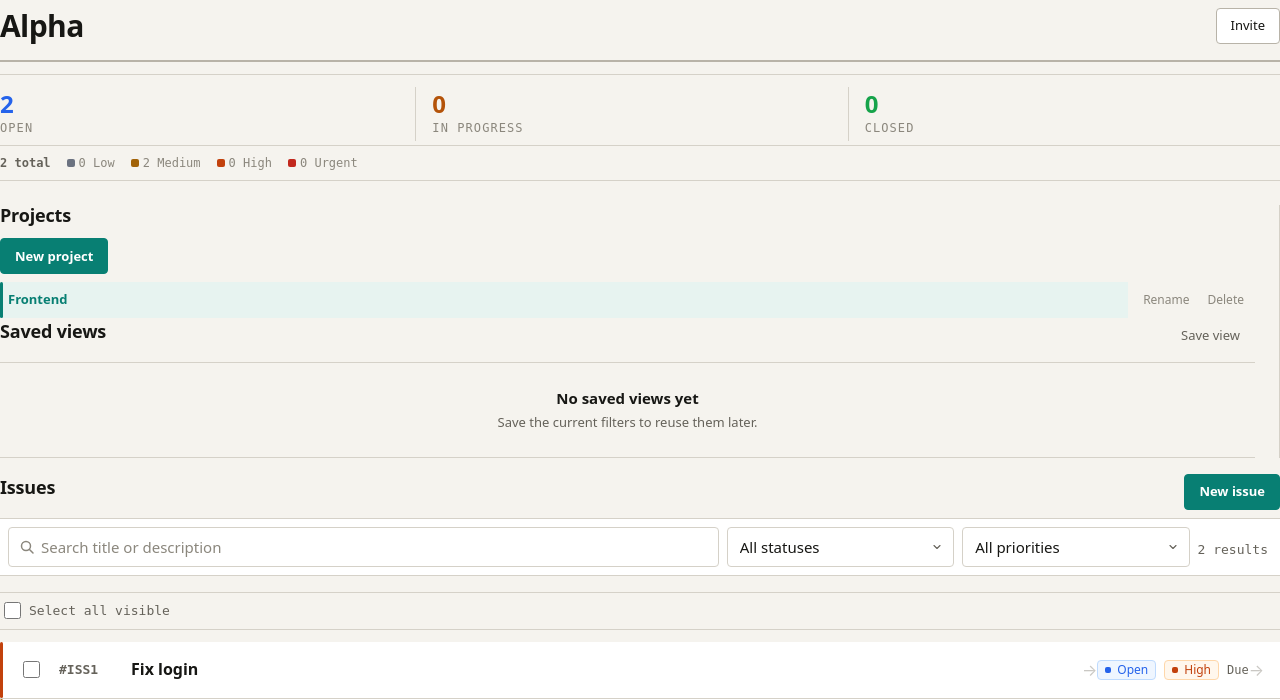
Test: WorkspacePage bulk actions › surfaces a bulk error in an alert and keeps the selection
This screenshot has width=1280, height=700.
Check: the text "Fix login" is shown, box [131,658,198,680]
Click the checkbox named "Select Fix login": (32, 670) [23,661,40,678]
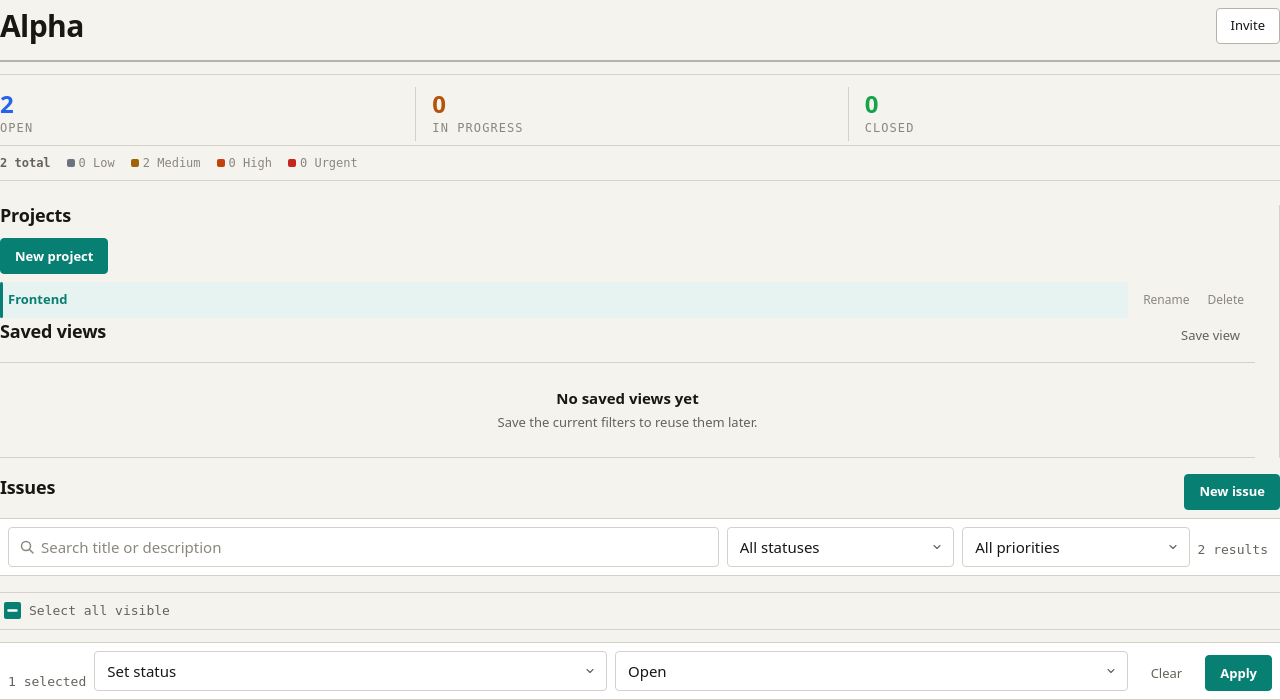
Click the button "Apply": (1239, 673) [1205,655,1272,691]
(page scrolled)
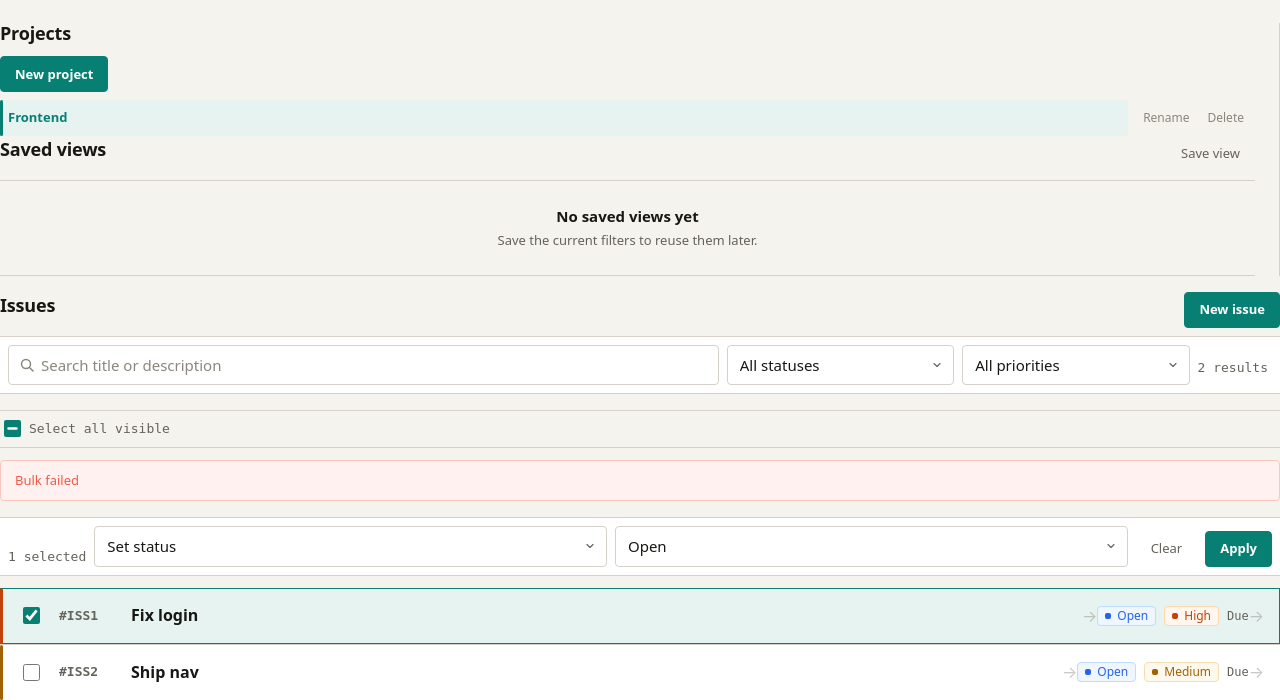
Check: the text "1 selected" is shown, box [8,547,86,566]
Check: the message "Bulk failed" is shown, box [0,460,1279,501]
